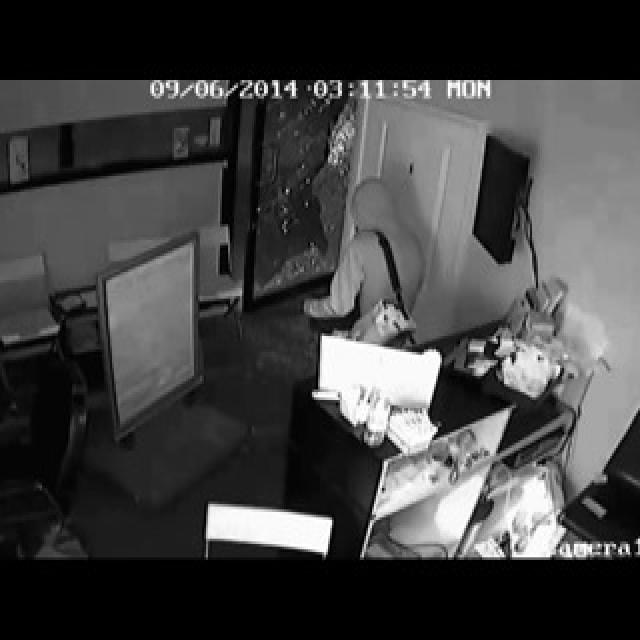thief: (307, 173, 427, 355)
